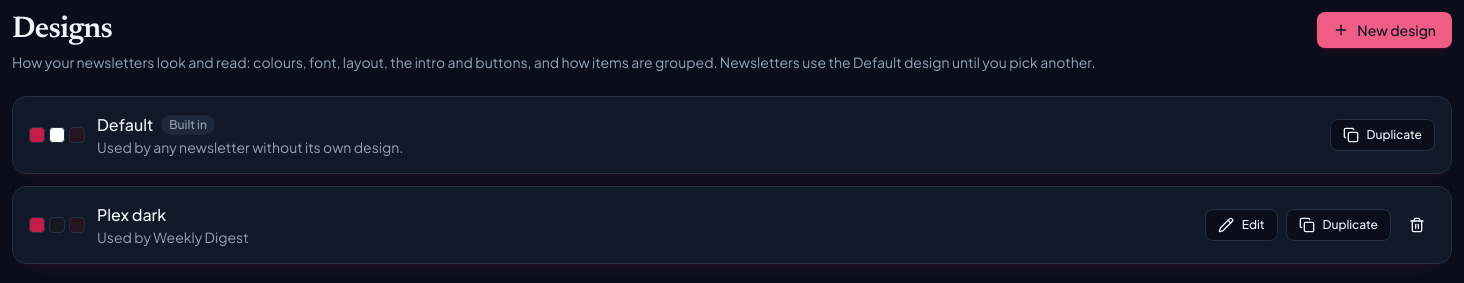
it: DesignsPage › shows which newsletters use a design, and warns they'll switch to Default before deleting it
Expected: the text "Used by Weekly Digest" is shown, [97,227,249,247]
Click the button named "Delete Plex dark": (1417, 225) [1399,207,1435,243]
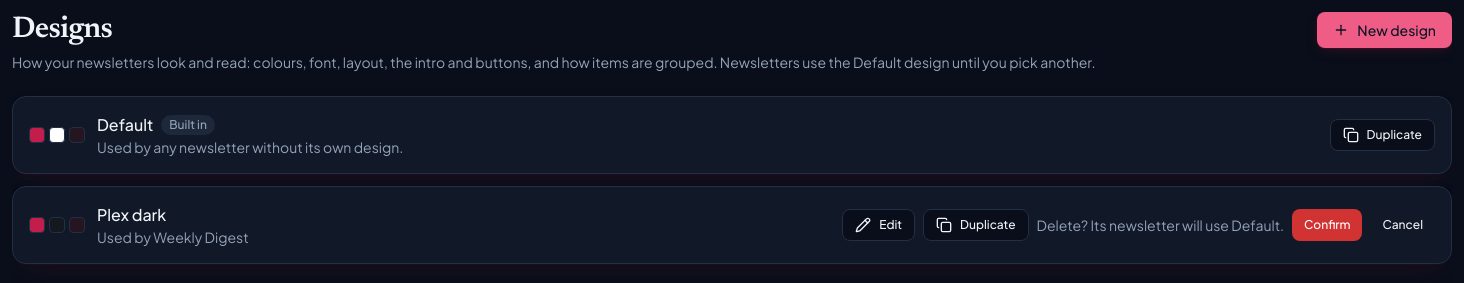
Expected: the text "Delete? Its newsletter will use Default." is shown, [1036,215,1284,235]
